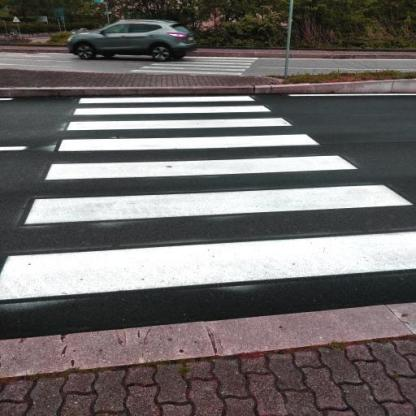crosswalk: (0, 181, 416, 308), (52, 115, 322, 156)
